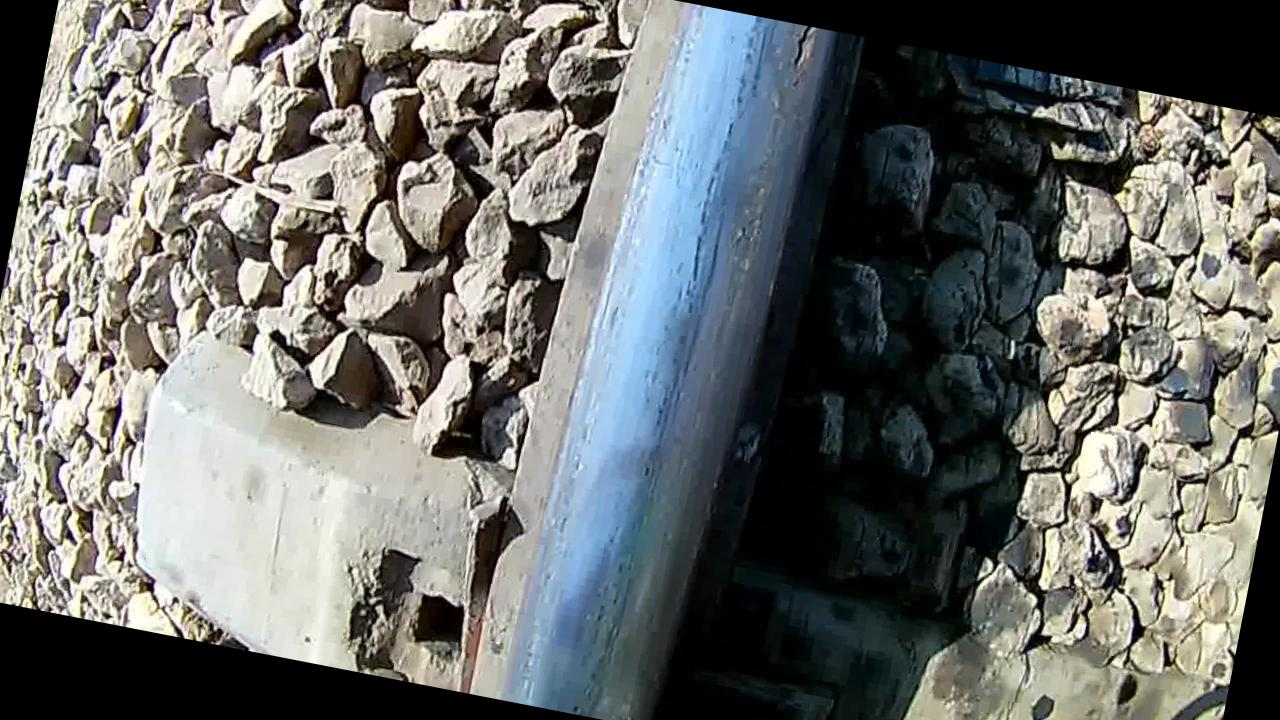crack: (525, 0, 839, 720)
